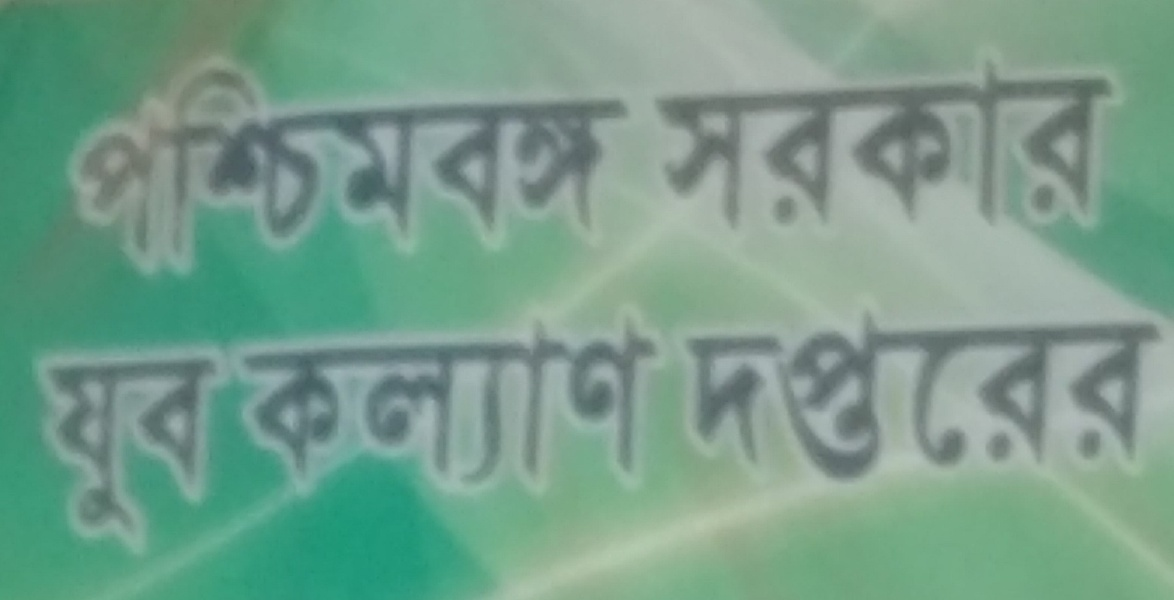text: (65, 43, 80, 282), (81, 43, 96, 282), (97, 43, 112, 282), (113, 43, 128, 282), (129, 43, 144, 282), (145, 43, 160, 282), (161, 43, 176, 282), (177, 43, 192, 282), (193, 43, 208, 282), (209, 43, 224, 282), (225, 43, 240, 282), (241, 43, 256, 282), (257, 43, 272, 282), (273, 43, 288, 282), (289, 43, 304, 282), (305, 43, 320, 282), (321, 43, 336, 282), (337, 43, 352, 282), (353, 43, 368, 282), (369, 43, 384, 282), (385, 43, 400, 282), (401, 43, 416, 282), (417, 43, 432, 282), (433, 43, 448, 282), (449, 43, 464, 282), (465, 43, 480, 282), (481, 43, 496, 282), (497, 43, 512, 282), (513, 43, 528, 282), (529, 43, 544, 282), (545, 43, 560, 282), (561, 43, 576, 282), (577, 43, 592, 282), (593, 43, 608, 282), (609, 43, 624, 282), (33, 341, 48, 553), (49, 341, 64, 553), (65, 341, 80, 553), (81, 341, 96, 553), (97, 341, 112, 553), (113, 341, 128, 553), (129, 341, 144, 553), (145, 341, 160, 553), (161, 341, 176, 553), (177, 341, 192, 553), (193, 341, 208, 553), (657, 44, 672, 235), (673, 44, 688, 235), (689, 44, 704, 235), (705, 44, 720, 235), (721, 44, 736, 235), (737, 44, 752, 235), (753, 44, 768, 235), (769, 44, 784, 235), (785, 44, 800, 235), (801, 44, 816, 235), (817, 44, 832, 235), (833, 44, 848, 235), (849, 44, 864, 235), (865, 44, 880, 235), (881, 44, 896, 235), (897, 44, 912, 235), (913, 44, 928, 235), (929, 44, 944, 235), (945, 44, 960, 235), (961, 44, 976, 235), (977, 44, 992, 235), (993, 44, 1008, 235), (1009, 44, 1024, 235), (1025, 44, 1040, 235), (1041, 44, 1056, 235), (1057, 44, 1072, 235), (1073, 44, 1088, 235), (1089, 44, 1104, 235), (1105, 44, 1120, 235), (673, 299, 688, 490), (689, 299, 704, 490), (705, 299, 720, 490), (721, 299, 736, 490), (737, 299, 752, 490), (753, 299, 768, 490), (769, 299, 784, 490), (785, 299, 800, 490), (801, 299, 816, 490), (817, 299, 832, 490), (833, 299, 848, 490), (849, 299, 864, 490), (865, 299, 880, 490), (881, 299, 896, 490), (897, 299, 912, 490), (913, 299, 928, 490), (929, 299, 944, 490), (945, 299, 960, 490), (961, 299, 976, 490), (977, 299, 992, 490), (993, 299, 1008, 490), (1009, 299, 1024, 490), (1025, 299, 1040, 490), (1041, 299, 1056, 490), (1057, 299, 1072, 490), (1073, 299, 1088, 490), (1089, 299, 1104, 490), (1105, 299, 1120, 490), (1121, 299, 1136, 490), (1137, 299, 1152, 490), (241, 304, 256, 492), (257, 304, 272, 492), (273, 304, 288, 492), (289, 304, 304, 492), (305, 304, 320, 492), (321, 304, 336, 492), (337, 304, 352, 492), (353, 304, 368, 492), (369, 304, 384, 492), (385, 304, 400, 492), (401, 304, 416, 492), (417, 304, 432, 492), (433, 304, 448, 492), (449, 304, 464, 492), (465, 304, 480, 492), (481, 304, 496, 492), (497, 304, 512, 492), (513, 304, 528, 492), (529, 304, 544, 492), (545, 304, 560, 492), (561, 304, 576, 492), (577, 304, 592, 492), (593, 304, 608, 492), (609, 304, 624, 492), (625, 304, 640, 492), (641, 304, 656, 492), (209, 341, 222, 553), (1153, 299, 1167, 490), (657, 304, 671, 492), (625, 43, 634, 282), (231, 304, 240, 492), (60, 43, 64, 282), (1121, 44, 1126, 235), (668, 299, 672, 490), (29, 341, 32, 553), (655, 44, 656, 235)
